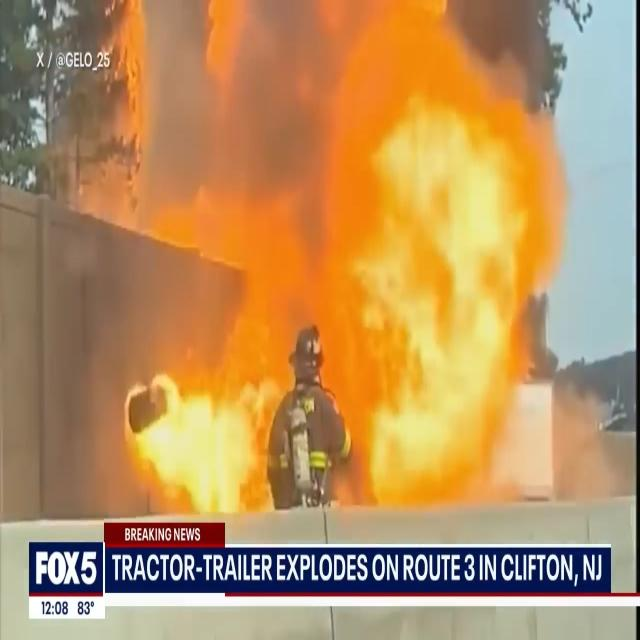fire: (115, 5, 556, 506)
